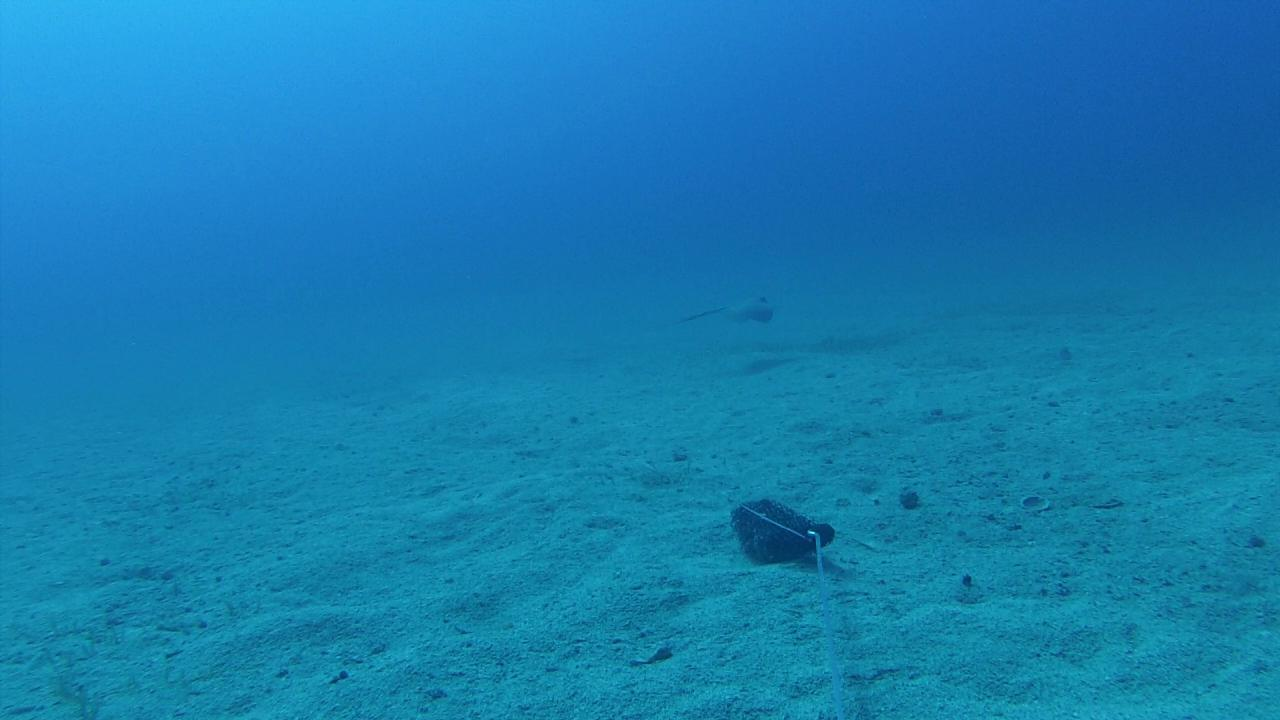dasyatis: (670, 294, 774, 323)
